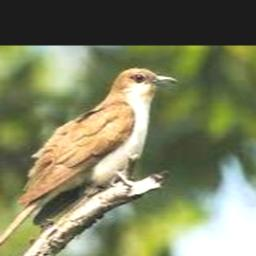Cuckoo: (0, 67, 178, 256)
